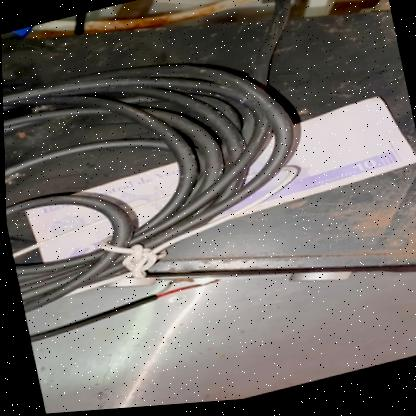ten-back-vef: (15, 94, 416, 285)
